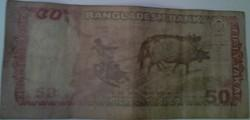50 taka: (9, 2, 243, 116)
